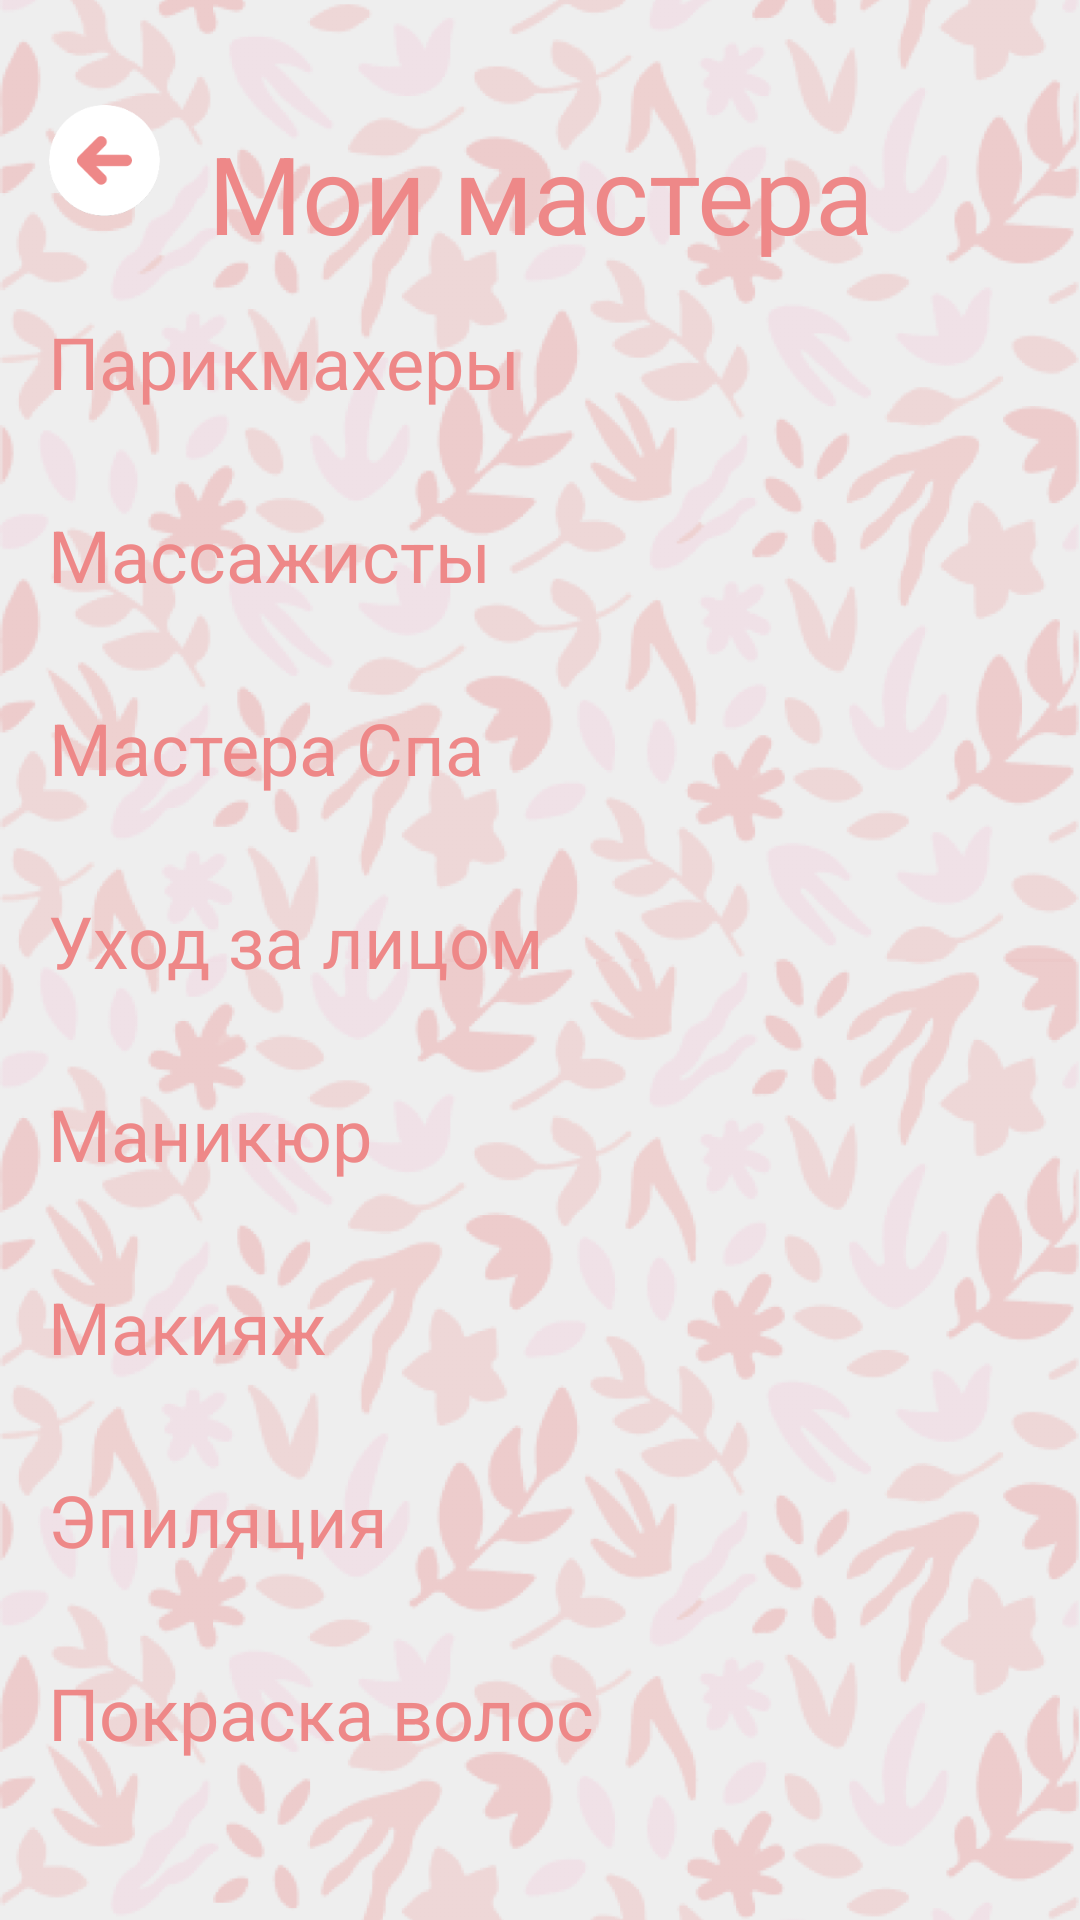

Icon bounding boxes for this 1080 x 1920 phone screenshot, format (x1, y1, x2, y2):
back arrow: (49, 105, 160, 216)
